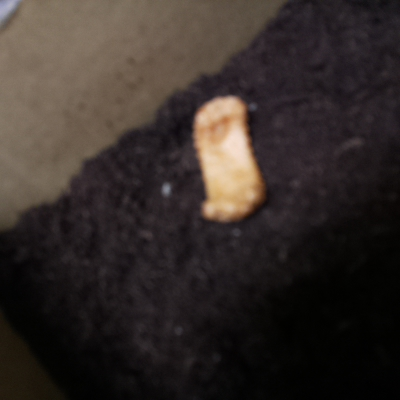eggs: (180, 92, 271, 226)
